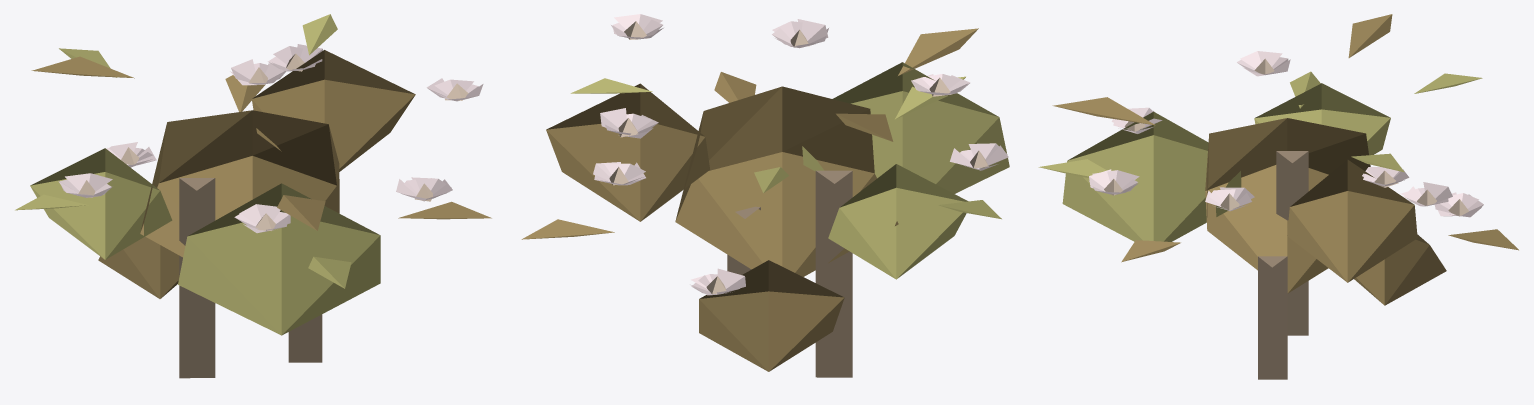
The model's file is nong.da@flowering__autumn.glb.
The picture shows the model from 3 angles, left to right: view 1: azimuth 30°, elevation 25°; view 2: azimuth 150°, elevation 25°; view 3: azimuth 270°, elevation 25°; orthographic projection. The views are drawn at different scales.
Visible parts, largest first — view 1: nong.da@flowering__autumn; view 2: nong.da@flowering__autumn; view 3: nong.da@flowering__autumn.
Boxes of the visible parts, x1,y1,x2,y2 form: nong.da@flowering__autumn: (15,14,491,378); nong.da@flowering__autumn: (521,14,1009,377); nong.da@flowering__autumn: (1038,14,1518,379).
Bounding box in the file's own units: 1.41 × 0.966 × 1.51.
